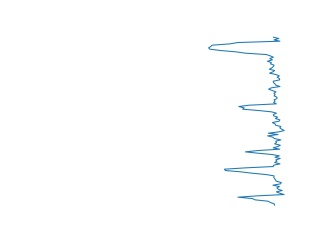distalBar: (205, 33, 284, 85)
interdistributaryEstuary: (235, 84, 285, 138)
underwaterNaturalLevee: (221, 140, 287, 207)
